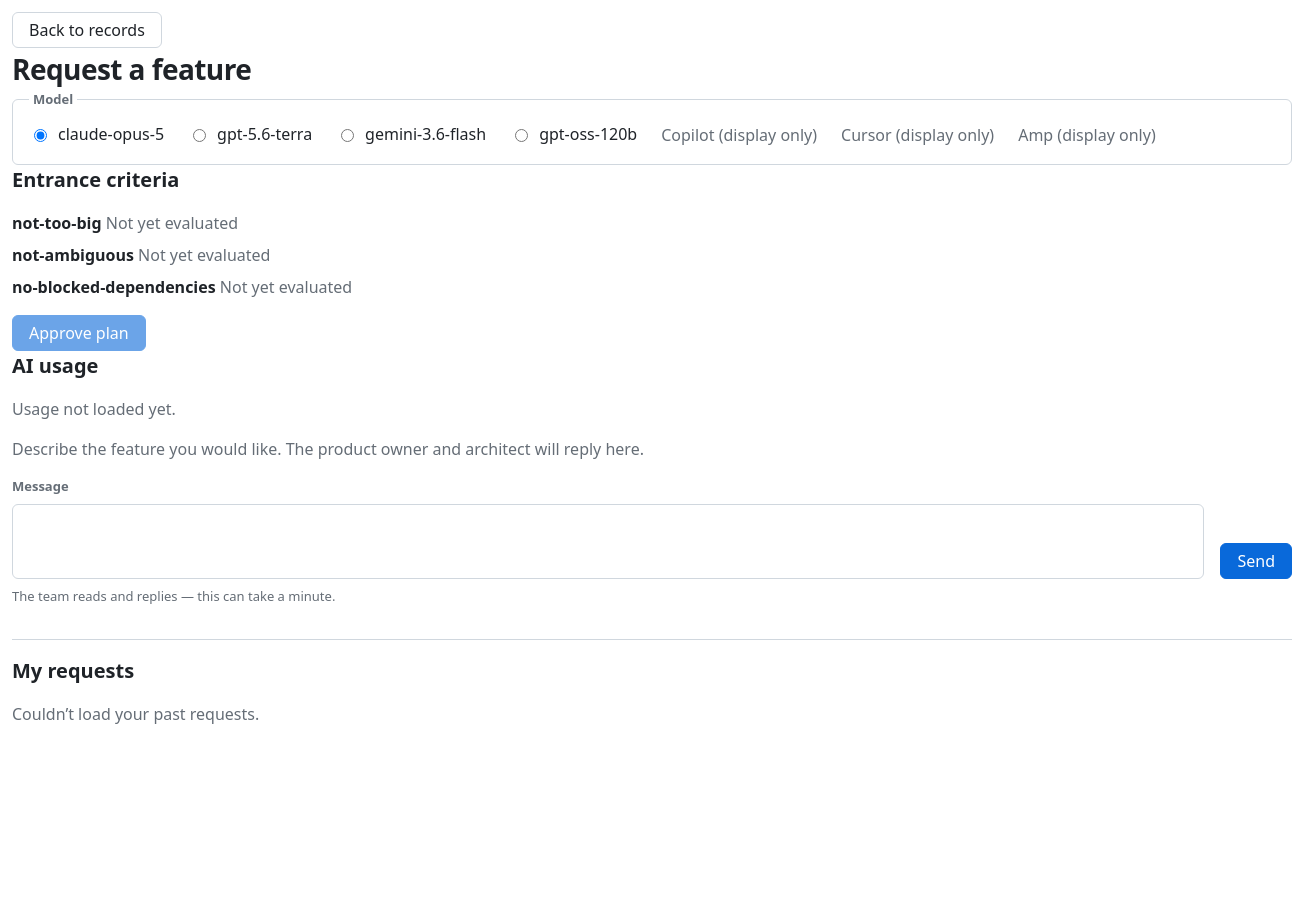
Test: DAN-67 tester · in-flight lockout (no interleaved second send) › while a round hangs the composer and Send are disabled, and a forced submit sends nothing extra
The width and height of the screenshot is (1304, 912).
Type "Add CSV export" into the text box labelled "Message" at x=608, y=542, box [12,504,1204,579]
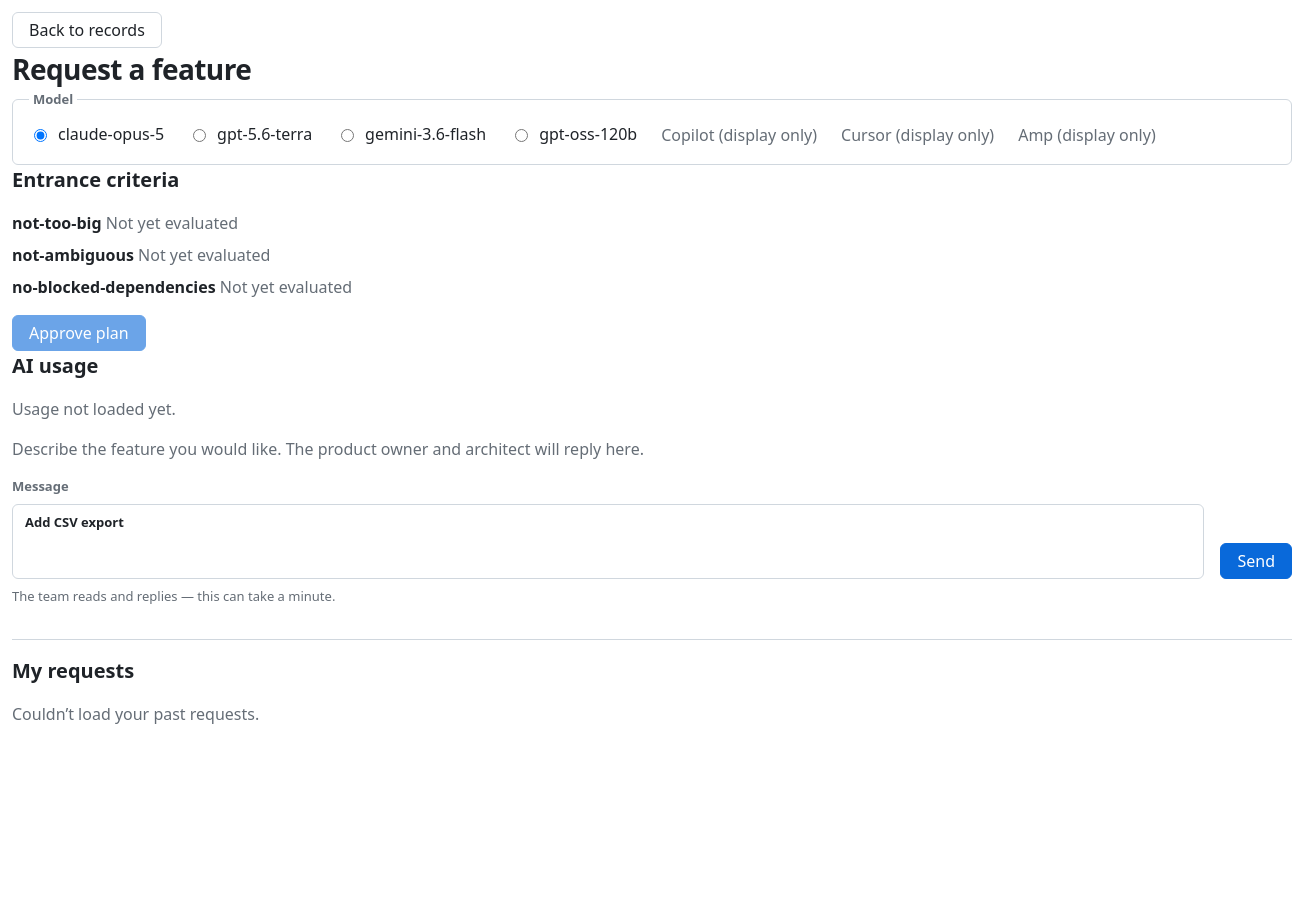
Click the button "Send" at x=1256, y=561, box [1220,543,1292,579]
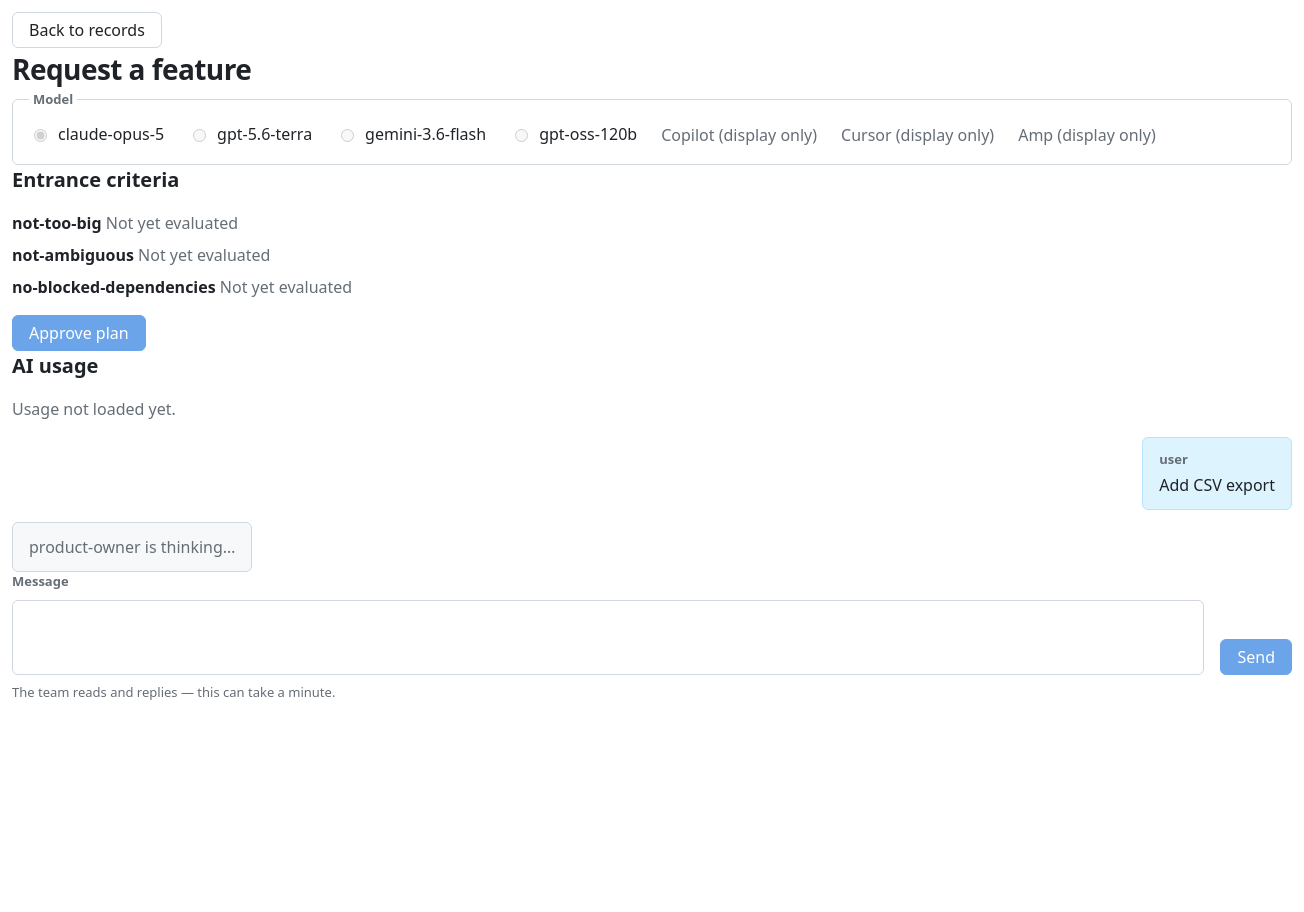
Now the text box labelled "Message" is disabled, box [12,600,1204,674]
Now the button "Send" is disabled, box [1220,638,1292,674]
Submit the form with class "chat-composer", box [12,572,1292,674]
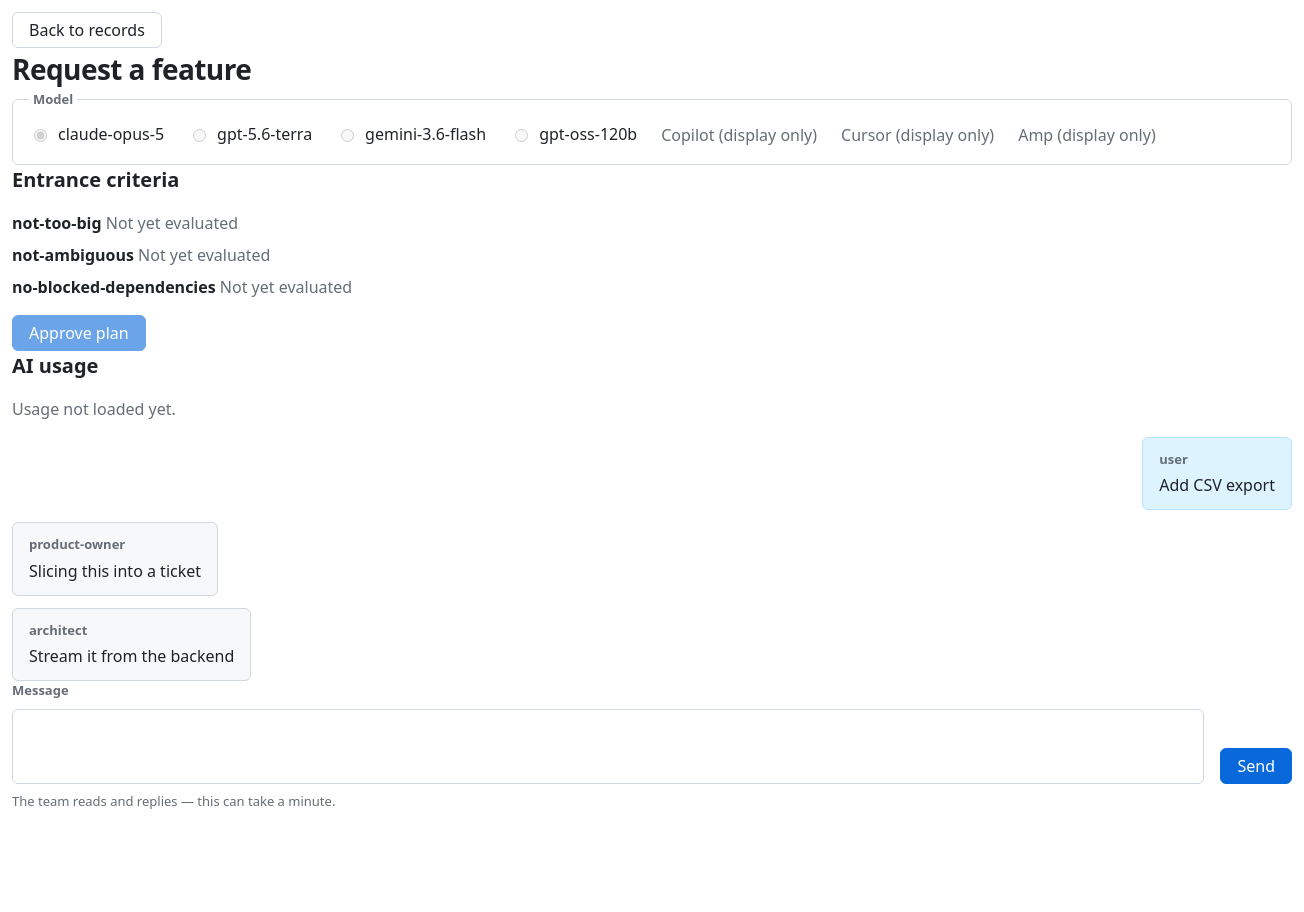
Expected: the text box labelled "Message" is enabled, [12,708,1204,784]
Now the button "Send" is enabled, box [1220,748,1292,784]
